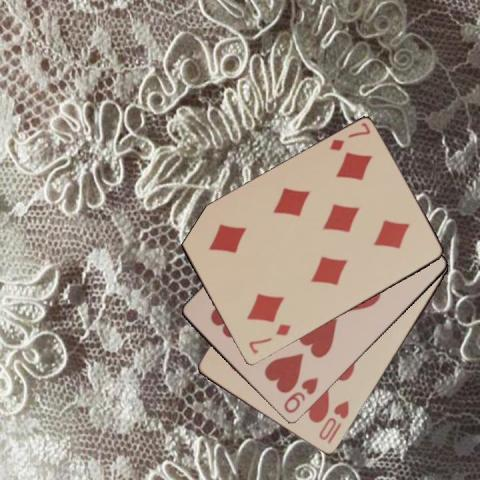10h: (316, 398, 351, 446)
7d: (245, 321, 292, 355), (326, 120, 372, 153)
9h: (281, 375, 320, 415)
